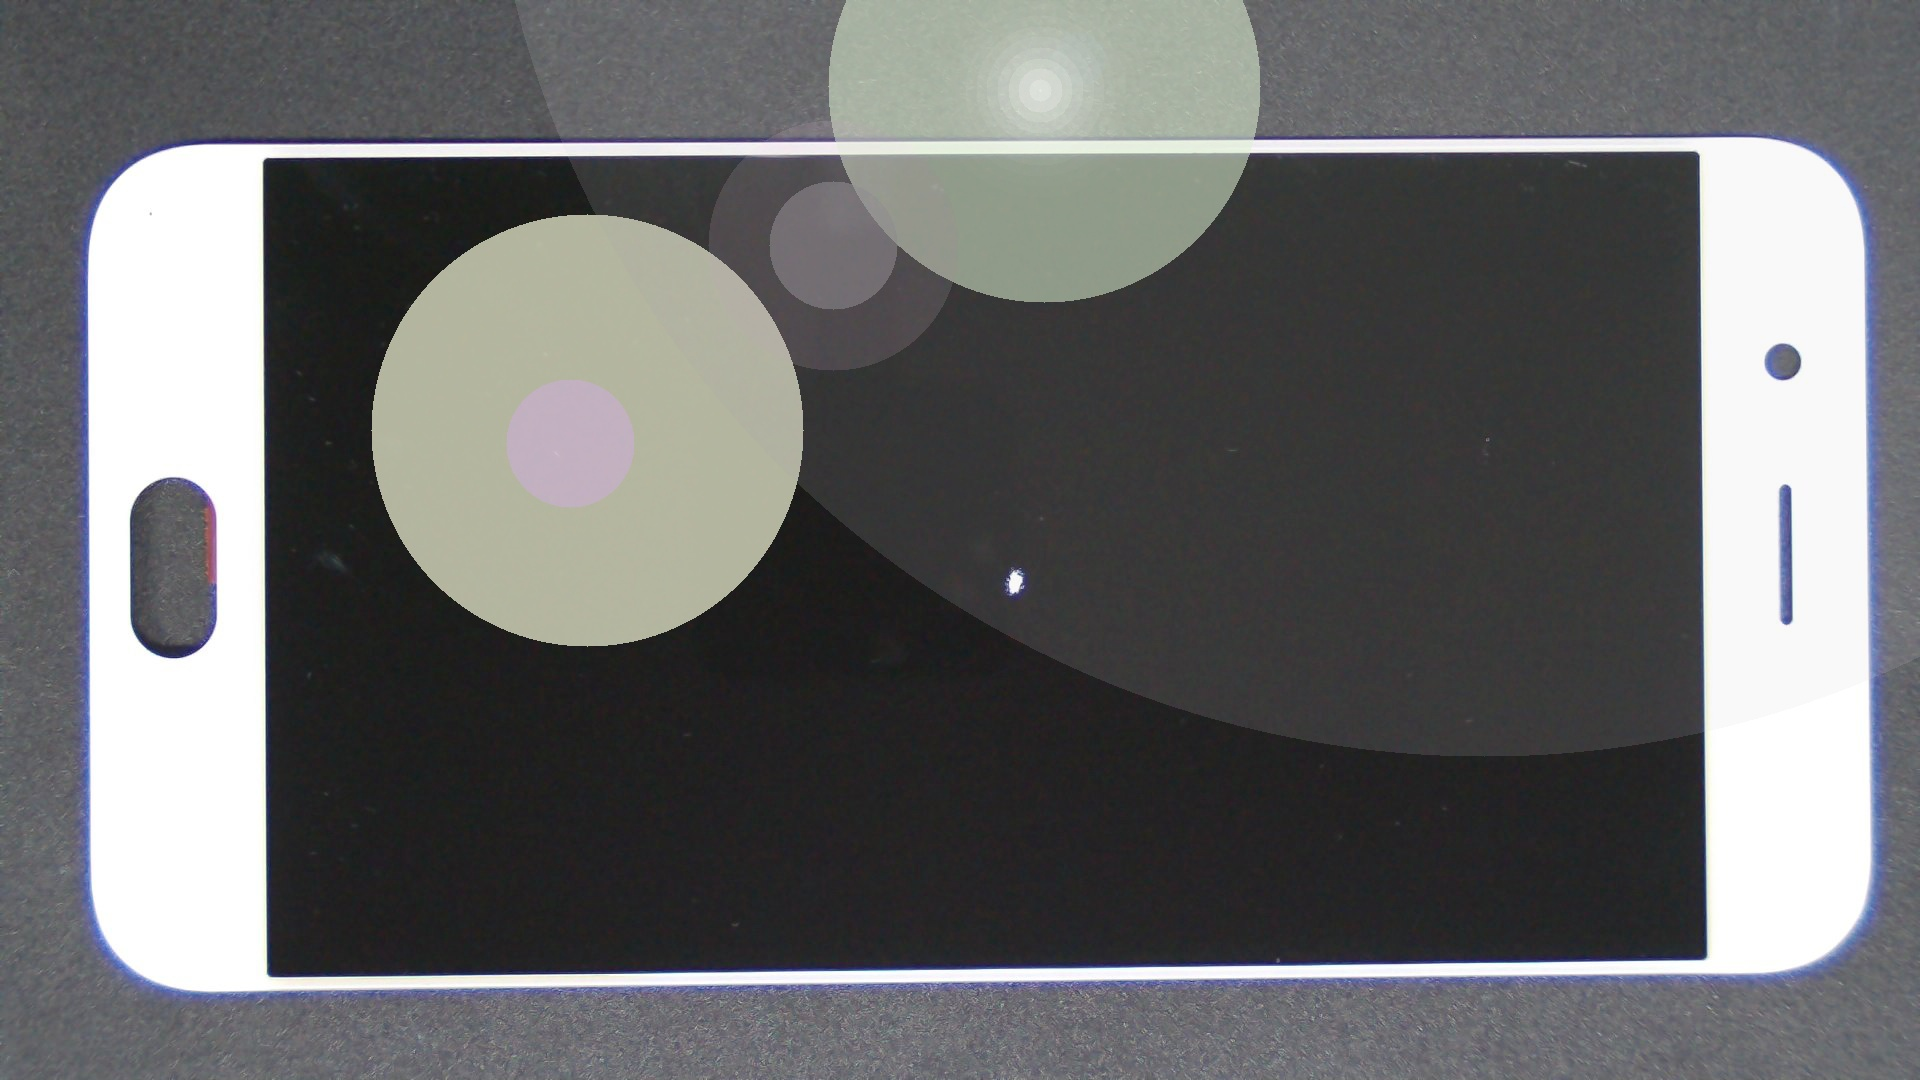oil: (506, 282, 1519, 848)
